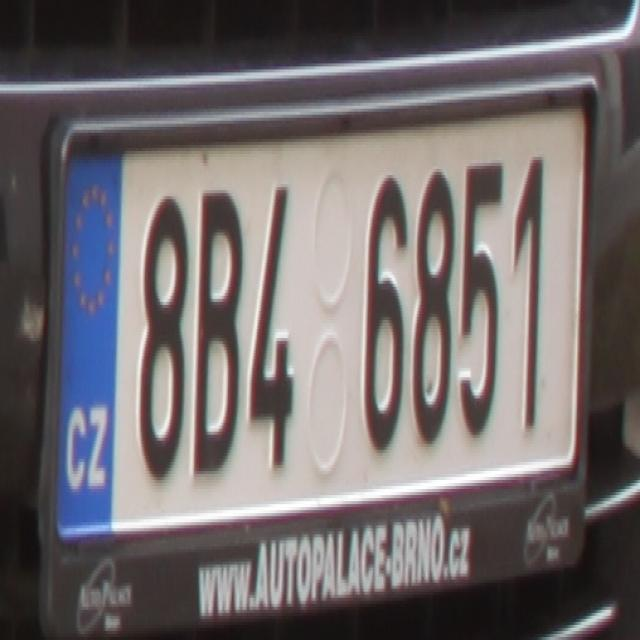1: (511, 148, 547, 450)
4: (246, 178, 298, 480)
5: (456, 154, 503, 456)
6: (361, 169, 408, 468)
8: (134, 187, 185, 486), (411, 163, 452, 462)
B: (189, 178, 239, 483)
